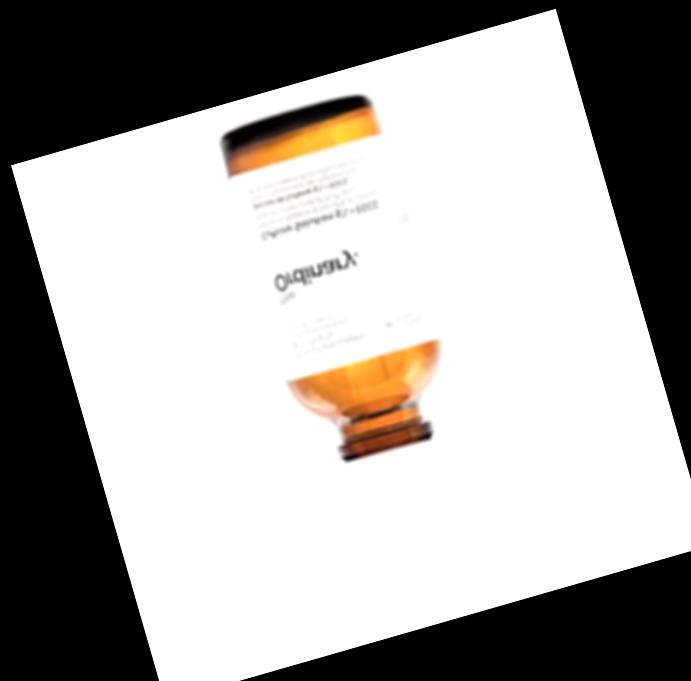cosmetic: (212, 91, 512, 622)
